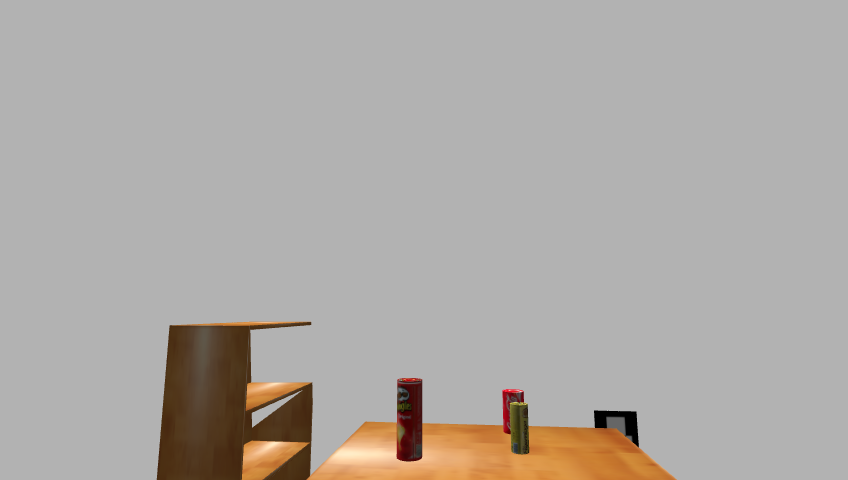aruco marker: (590, 408, 644, 452)
biscuits pack: (508, 403, 530, 455)
bookshelf: (151, 320, 319, 480)
coke can: (501, 389, 526, 434)
dinner table: (286, 420, 707, 480)
pringles can: (395, 378, 424, 464)
